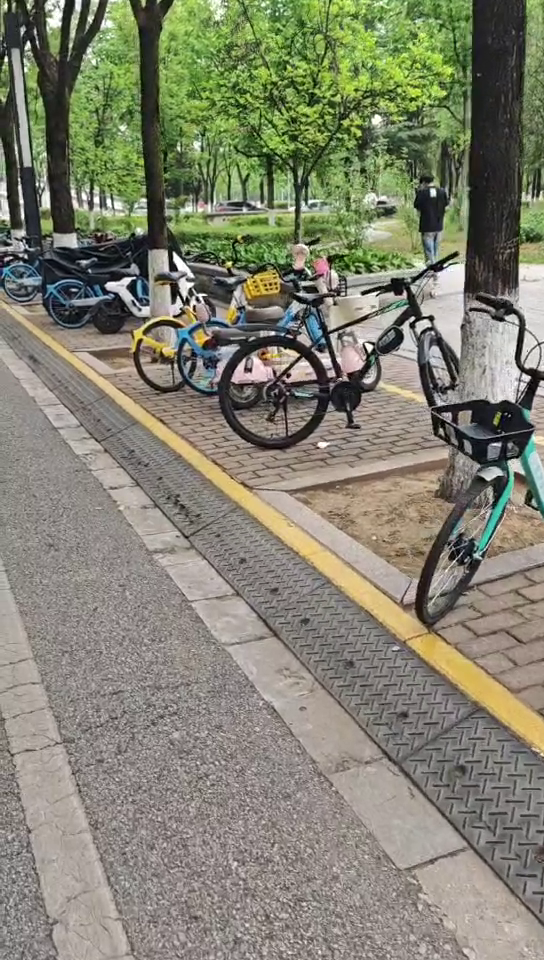others: (229, 264, 458, 446)
shared_bike_haluo: (180, 276, 336, 393), (46, 253, 146, 326), (3, 239, 68, 312)
shared_bike_meituan: (133, 261, 291, 388)
shared_bike_qingcong: (405, 293, 544, 623)
